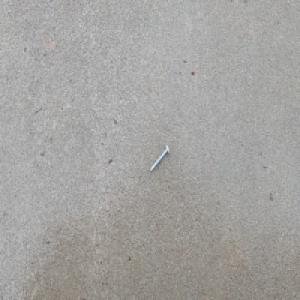Nail: (149, 143, 170, 173)
